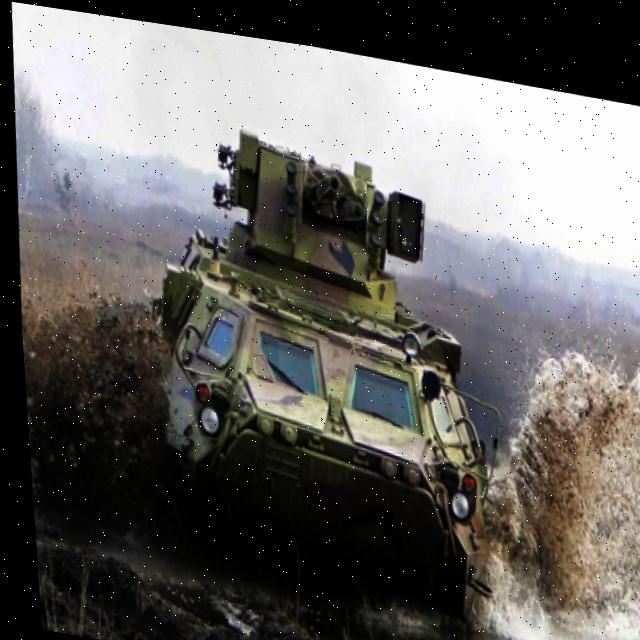MIL_APC: (123, 117, 515, 640)
